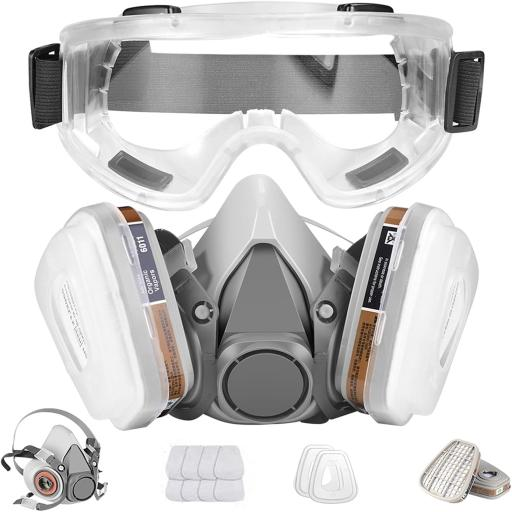mask: (13, 188, 498, 426), (0, 421, 128, 512)
